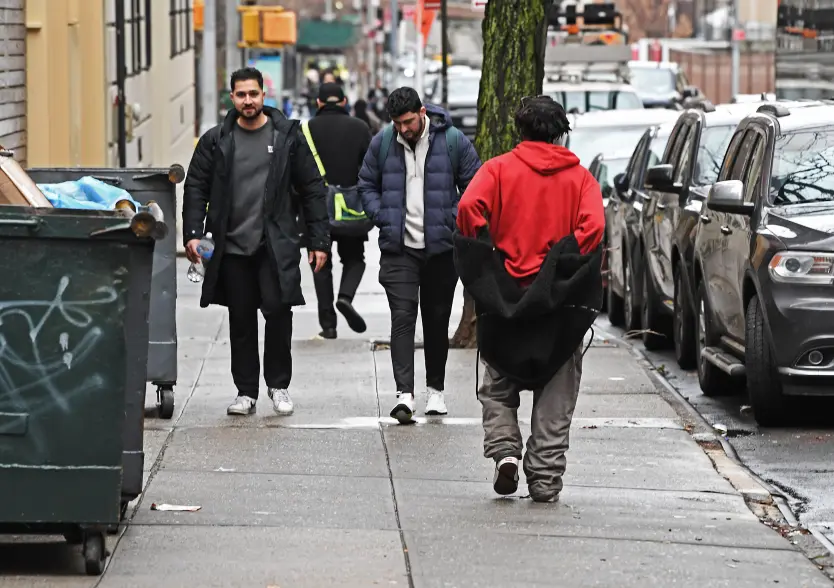car: (680, 92, 834, 415), (635, 89, 789, 339), (604, 112, 685, 326)
person: (452, 96, 613, 505), (177, 67, 332, 420), (355, 83, 483, 428), (297, 80, 372, 342)
